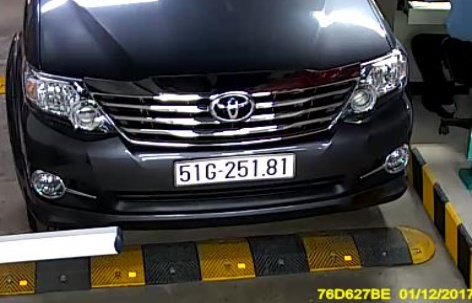plate: (172, 152, 299, 192)
